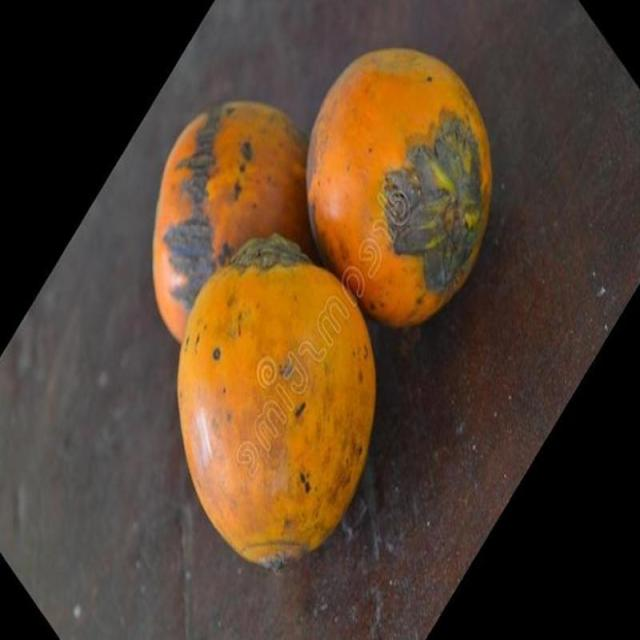good: (177, 236, 378, 568), (306, 48, 494, 331), (156, 102, 318, 331)
